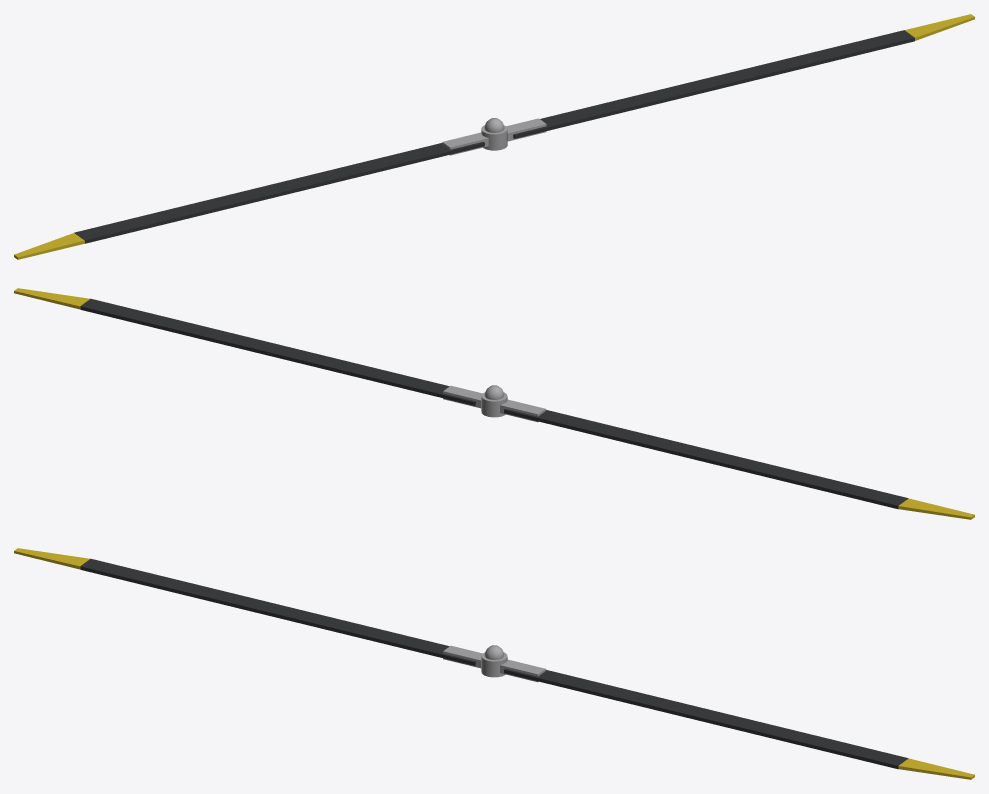
File: main-rotor-quiet.glb
3 renders of one model, top to bottom at view 1: azimuth 30°, elevation 25°; view 2: azimuth 150°, elevation 25°; view 3: azimuth 330°, elevation 25°, orthographic.
Parts seen in each view (by area): view 1: main-rotor-quiet; view 2: main-rotor-quiet; view 3: main-rotor-quiet.
Boxes of the visible parts, x1,y1,x2,y2 form: main-rotor-quiet: (14, 14, 974, 259); main-rotor-quiet: (14, 288, 974, 519); main-rotor-quiet: (14, 548, 974, 779).
Size of the model in its own units: 10 by 0.26 by 0.24.
